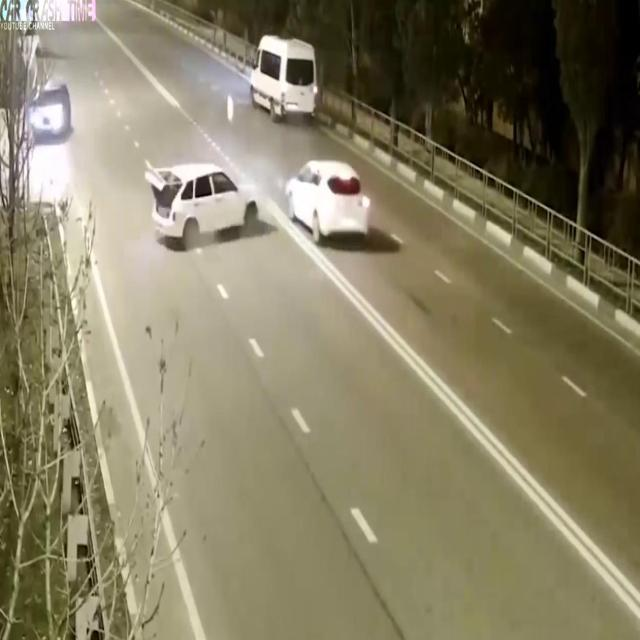accident: (142, 148, 262, 263)
